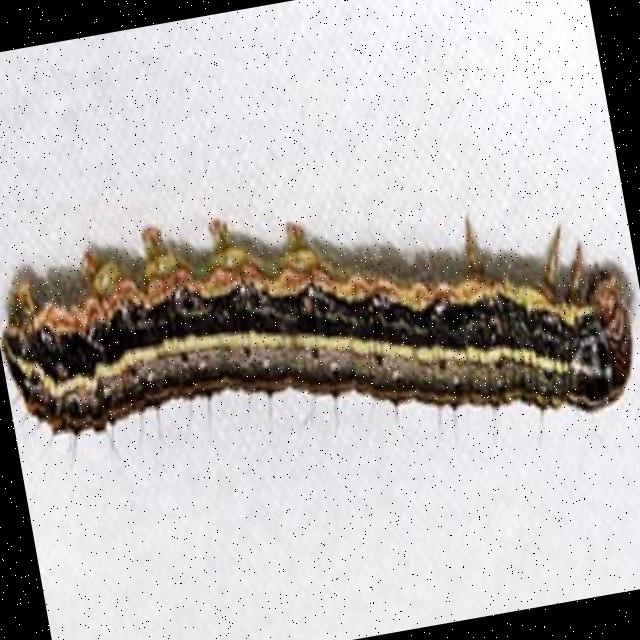worm: (1, 142, 640, 513)
